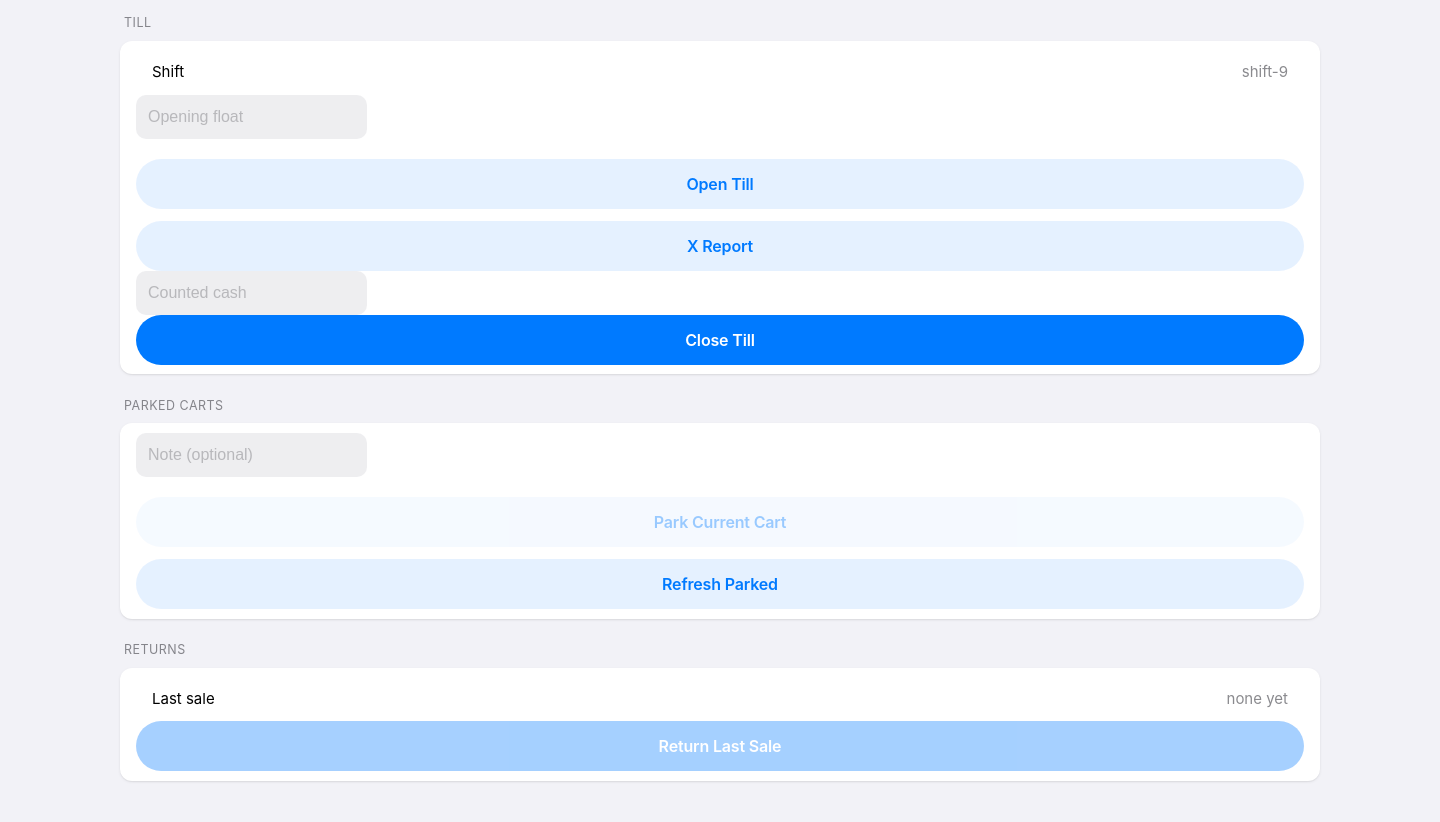
it: StoreOpsPanel shift across tab switches › keeps using a shift the app remembers after the panel is remounted
Expected: the text "shift-9" is shown, [1242,62,1288,84]
Step 1. Click the button "X Report" → click(720, 246), box [136,221,1304,271]
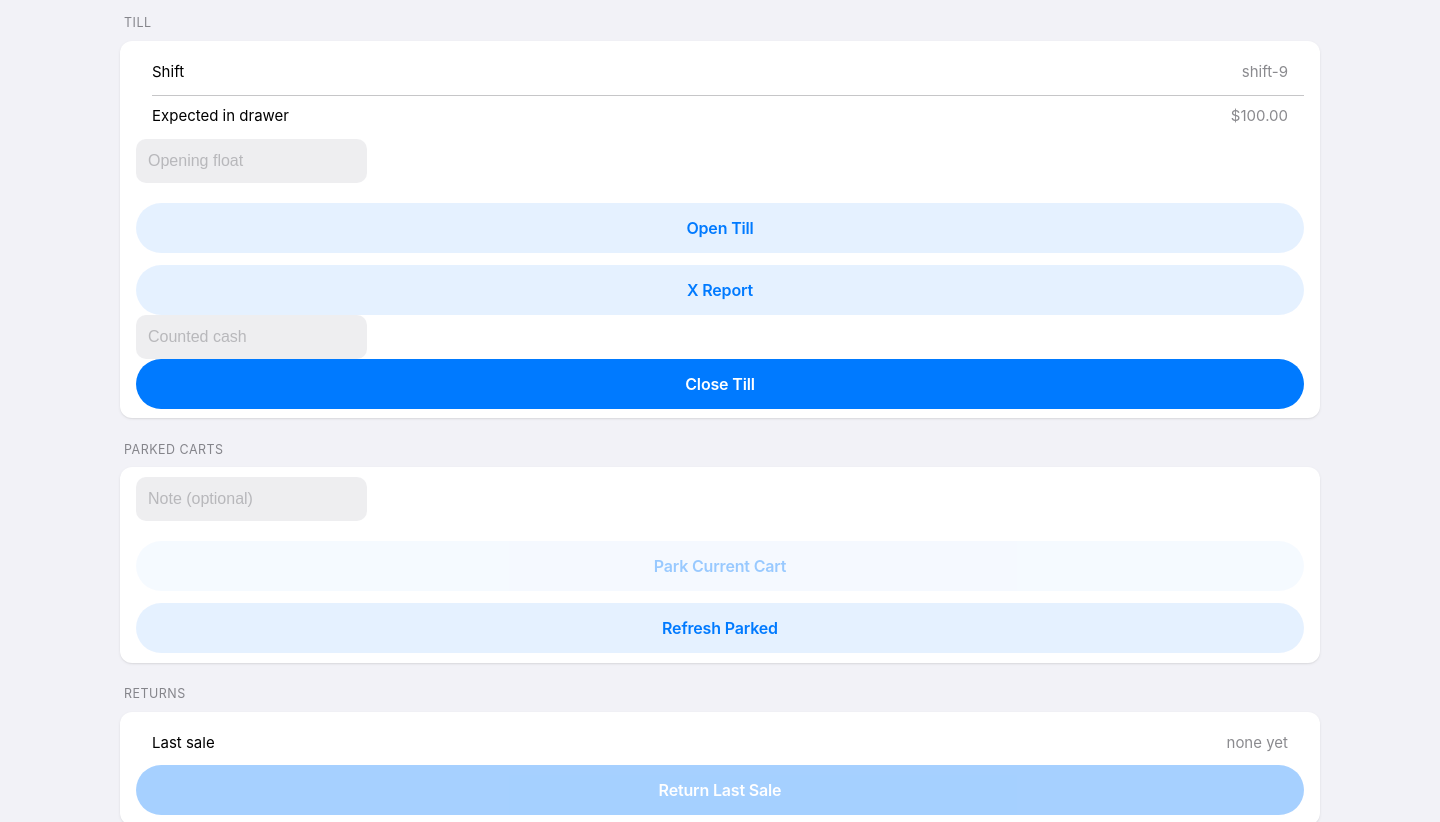
Now the text "$100.00" is shown, box [1231,106,1288,128]
